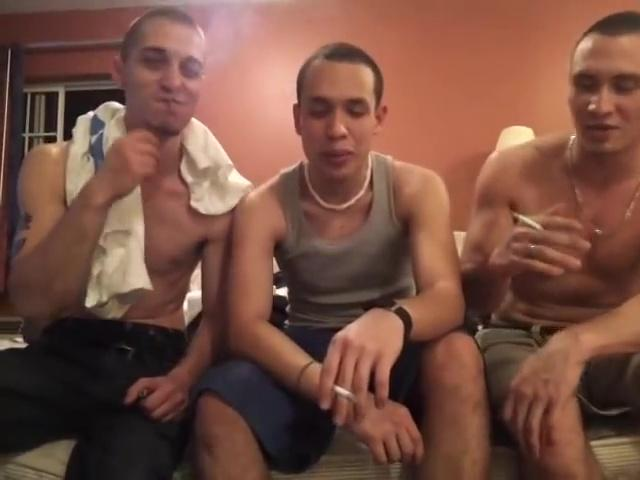cigarette: (513, 209, 549, 232), (331, 383, 359, 405)
